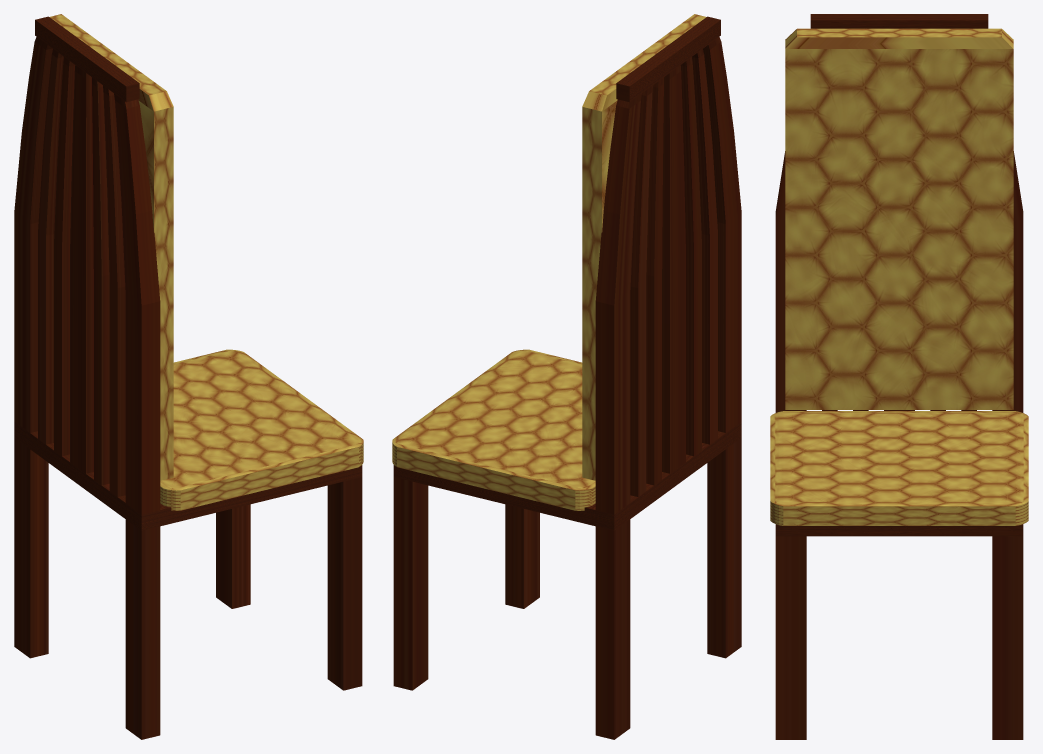
Rendered from Chair.obj.
3 views of the same model, side by side, from view 1: azimuth 30°, elevation 25°; view 2: azimuth 150°, elevation 25°; view 3: azimuth 270°, elevation 25° (orthographic). The views are drawn at different scales.
Parts seen in each view (by area): view 1: Chair-Merged_0, Chair-Merged_1; view 2: Chair-Merged_0, Chair-Merged_1; view 3: Chair-Merged_1, Chair-Merged_0.
Boxes of the visible parts, left/top/right/bottom form: Chair-Merged_0: left=14, top=16, right=362, bottom=739; Chair-Merged_1: left=49, top=14, right=363, bottom=510; Chair-Merged_0: left=393, top=16, right=741, bottom=739; Chair-Merged_1: left=392, top=14, right=706, bottom=510; Chair-Merged_1: left=770, top=28, right=1028, bottom=525; Chair-Merged_0: left=775, top=14, right=1023, bottom=739.
Bounding box in the file's own units: 0.6137 × 1.66 × 0.6252.
2 materials, 2 textured.
